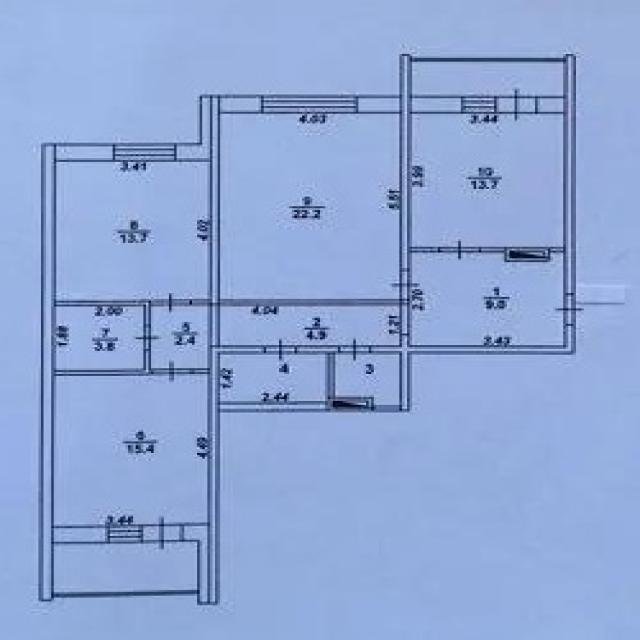Corridors: (410, 253, 563, 345), (220, 307, 399, 344), (55, 543, 197, 589), (55, 306, 141, 368), (412, 62, 562, 95), (220, 356, 327, 400), (153, 308, 207, 368), (335, 355, 399, 405)
Doors: (143, 514, 181, 552), (496, 88, 537, 123), (554, 293, 585, 326), (152, 359, 192, 384), (390, 268, 422, 299), (439, 238, 480, 262), (150, 291, 191, 314), (338, 336, 370, 364), (263, 339, 298, 363), (133, 324, 162, 351), (400, 303, 410, 335)
LBwalls: (369, 325, 577, 413), (42, 142, 55, 601), (208, 94, 219, 605), (399, 53, 411, 268), (565, 54, 575, 294), (176, 94, 211, 161), (182, 522, 209, 606), (220, 400, 327, 412), (55, 142, 113, 162), (53, 526, 106, 543), (220, 94, 261, 114), (412, 96, 460, 113), (356, 95, 399, 113), (536, 96, 565, 114), (219, 345, 263, 355), (298, 345, 339, 354), (400, 300, 410, 304)
Offices: (220, 114, 398, 298), (56, 377, 207, 522), (55, 162, 208, 298), (413, 114, 565, 246)
Walls: (326, 353, 401, 412), (56, 299, 152, 325), (55, 352, 154, 376), (220, 299, 400, 307), (480, 247, 565, 263), (54, 590, 198, 596), (412, 57, 565, 62), (411, 247, 440, 252), (192, 299, 209, 306), (191, 369, 210, 374)
Windows: (260, 95, 358, 113), (112, 142, 178, 162), (107, 524, 144, 543), (460, 95, 496, 114)
